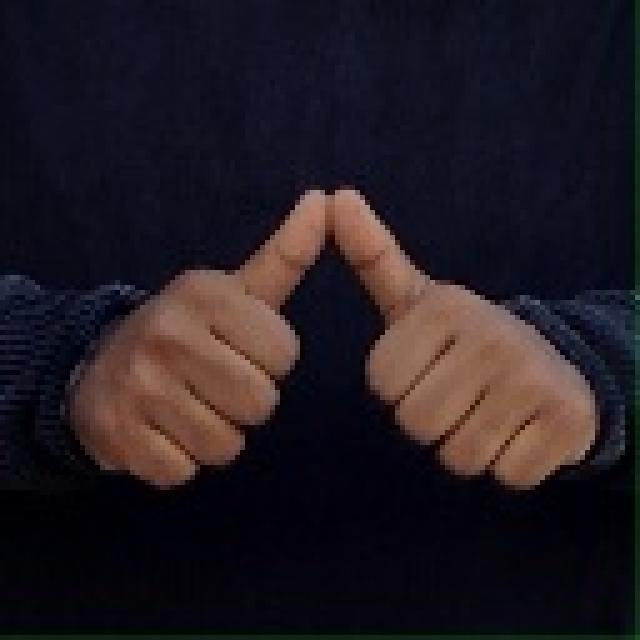Alphabet-A: (63, 179, 606, 505)
